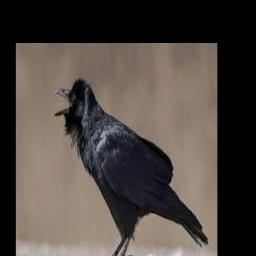Crow: (54, 77, 208, 256)
